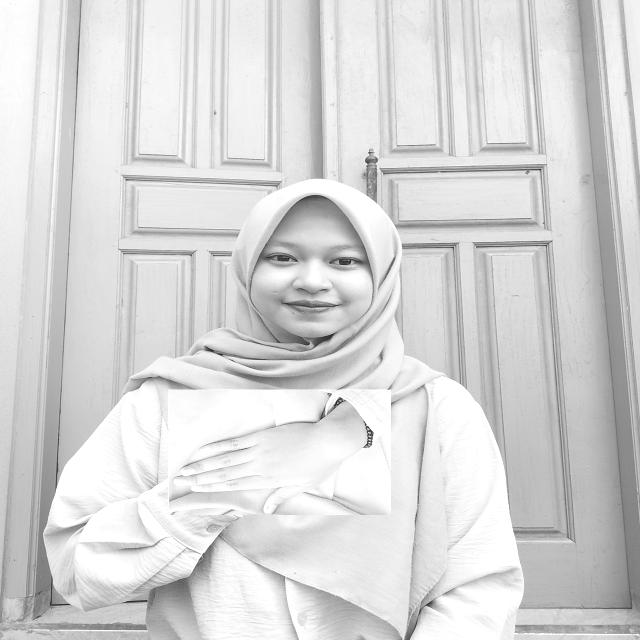tolong: (168, 389, 391, 515)
